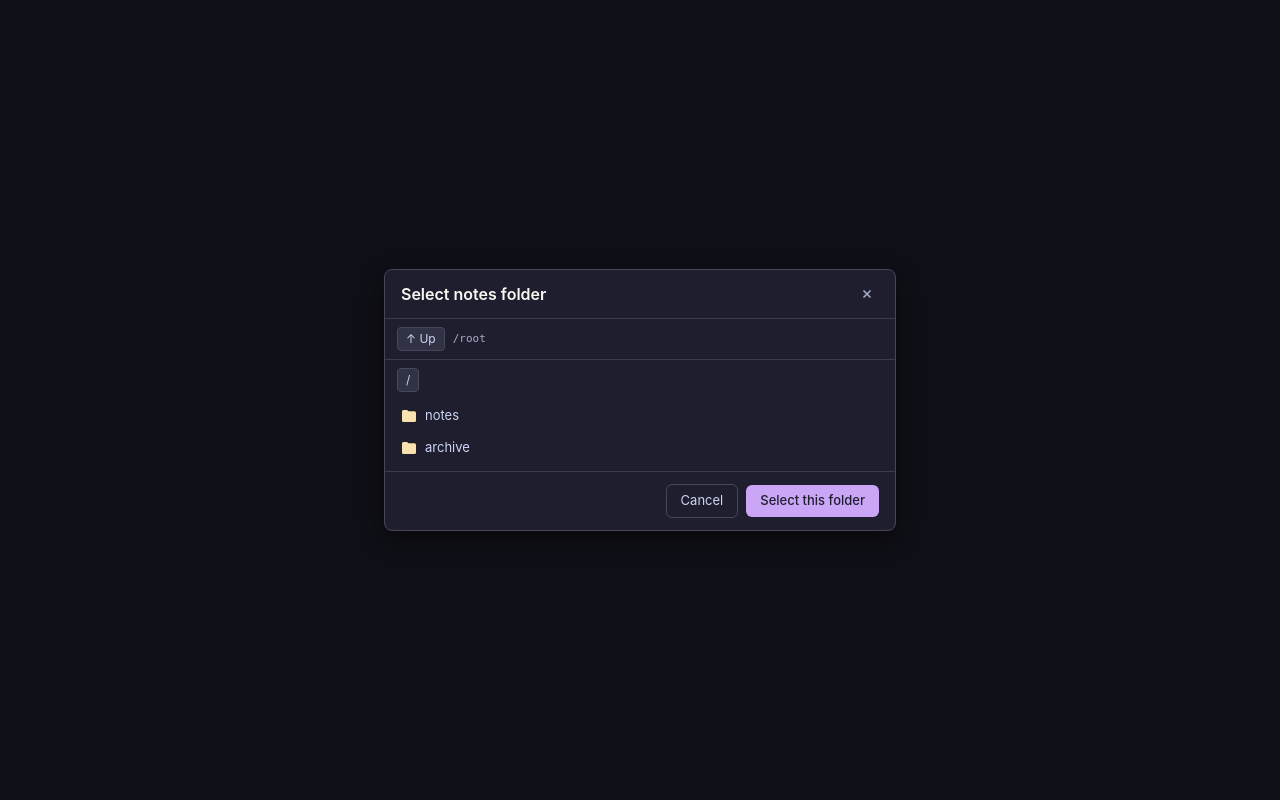
it: FolderPickerHost › enters a subfolder
The width and height of the screenshot is (1280, 800).
Click the button "notes" at (442, 415), box [393,400,887,432]
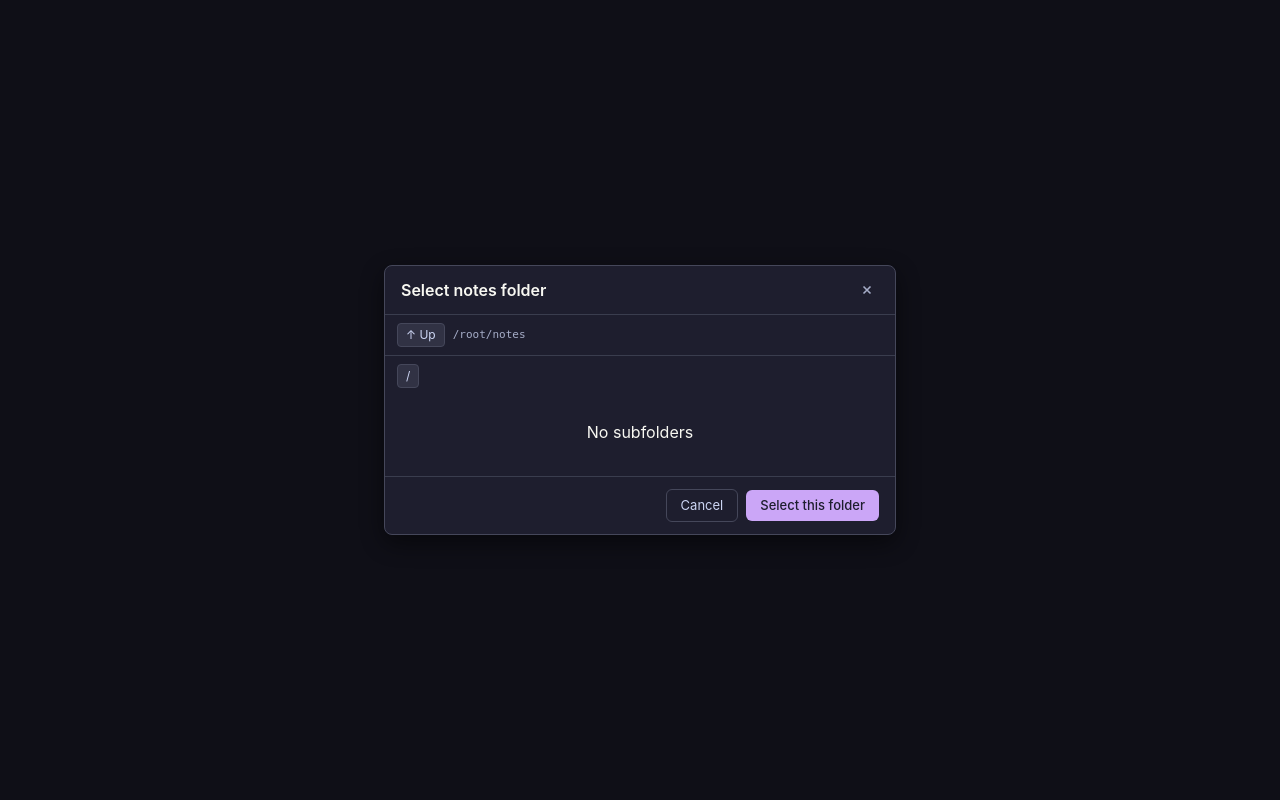
Now the text "/root/notes" is shown, box [453,326,526,343]
